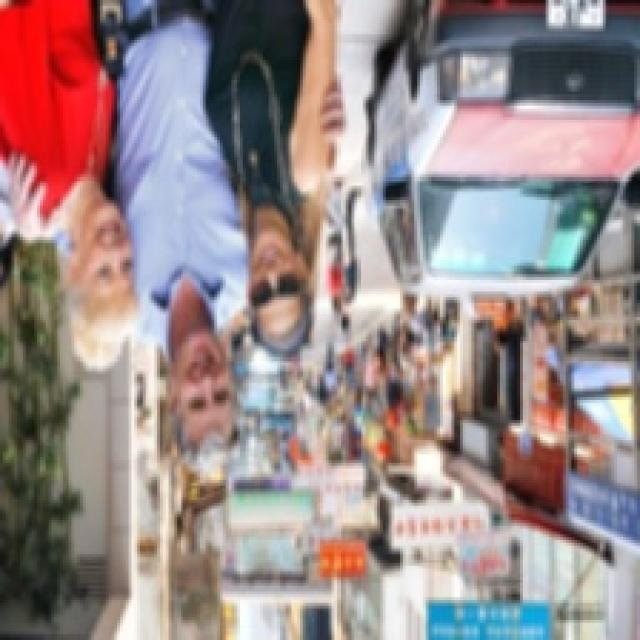car: (362, 30, 638, 305)
